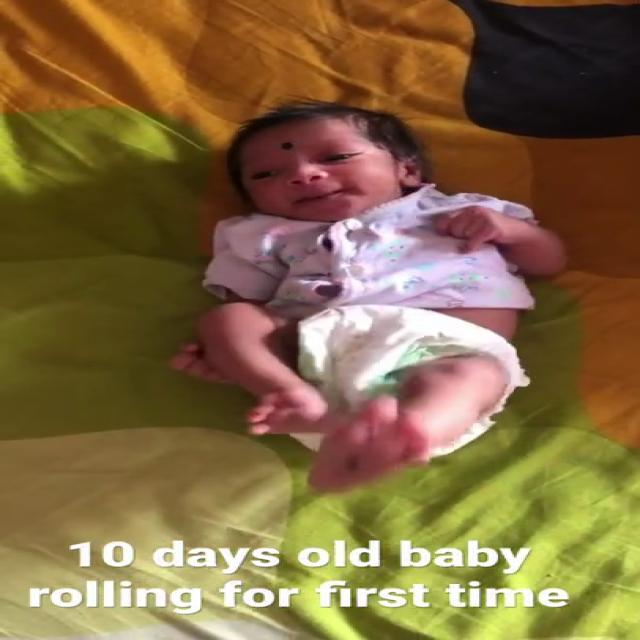baby: (168, 98, 575, 490)
